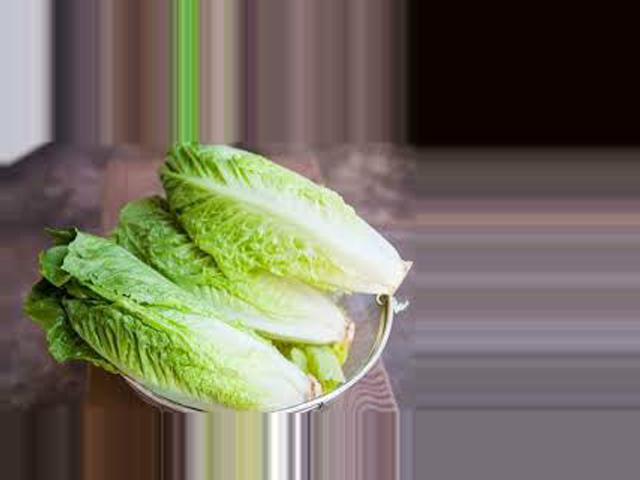lettuce: (35, 225, 341, 413)
